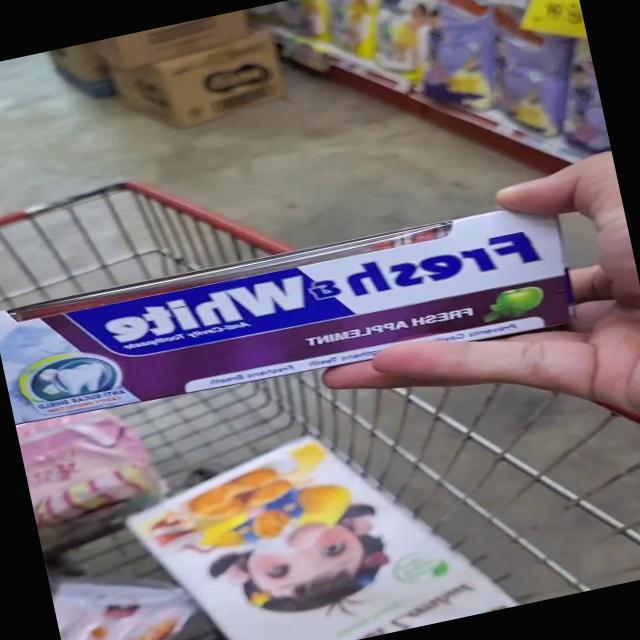Tisu: (102, 402, 455, 613), (179, 490, 533, 640)
Ubat Gigi: (0, 176, 601, 452)
